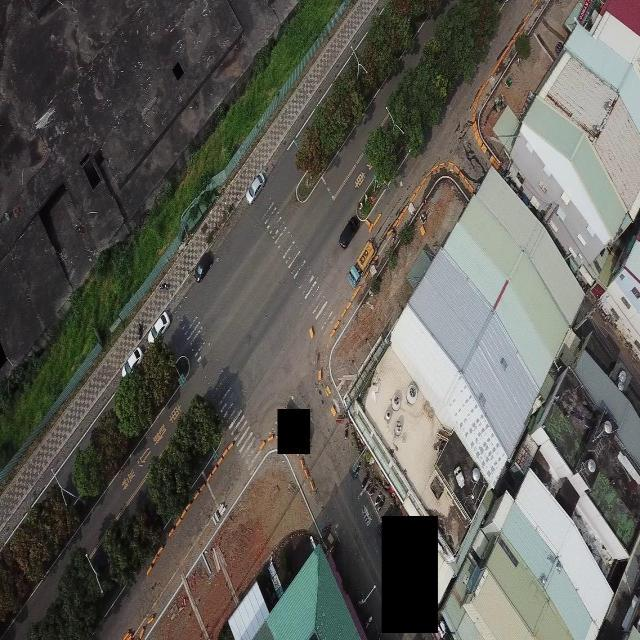bike: (377, 497, 385, 513), (374, 492, 382, 508), (362, 472, 369, 488)
car: (148, 309, 172, 345), (122, 343, 146, 378), (245, 171, 267, 205), (338, 215, 360, 249), (194, 249, 214, 282)
truck: (347, 237, 377, 288)
